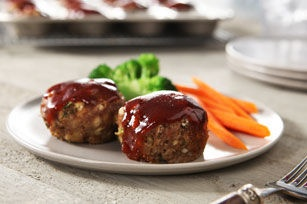background: (19, 16, 130, 52)
